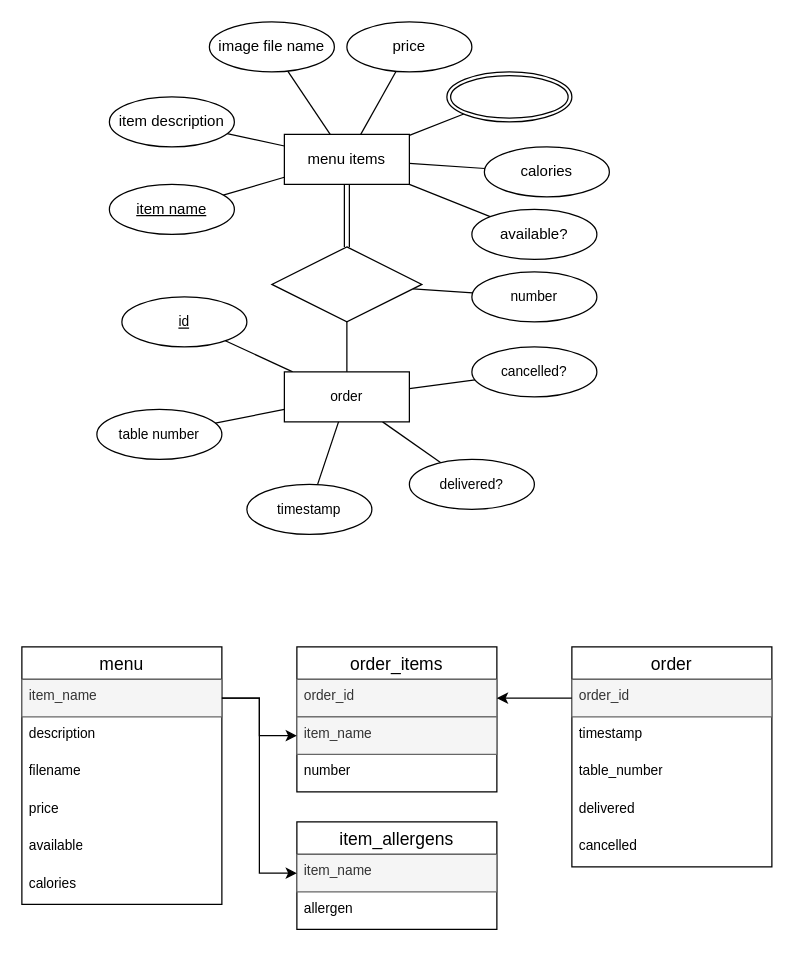
Some shapes in this 794 by 955 pixel diagram are drawn without their labels. Here are the shapes that lost their labels. From the top down, the centre of each, then its label:
the point at 509,96: allergens
the point at 346,284: item in order
